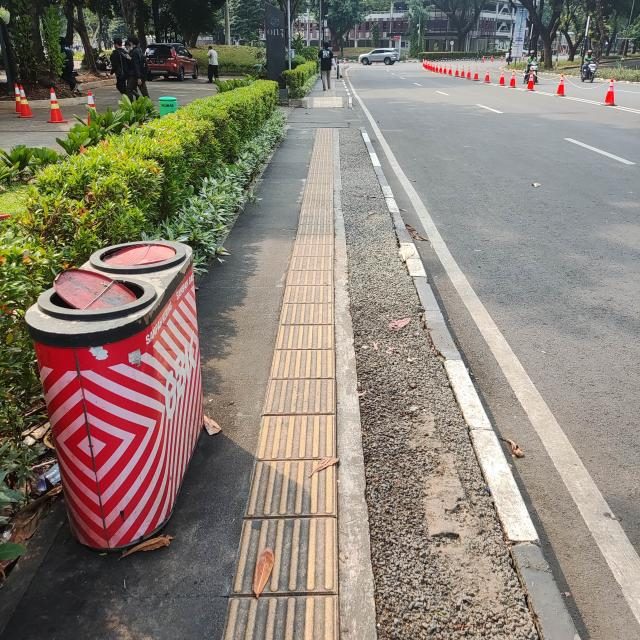lurus: (260, 140, 339, 640)
